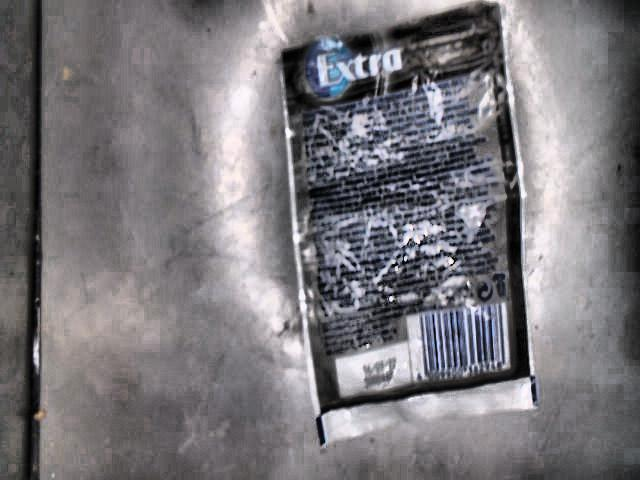Plastic: (277, 5, 538, 449)
